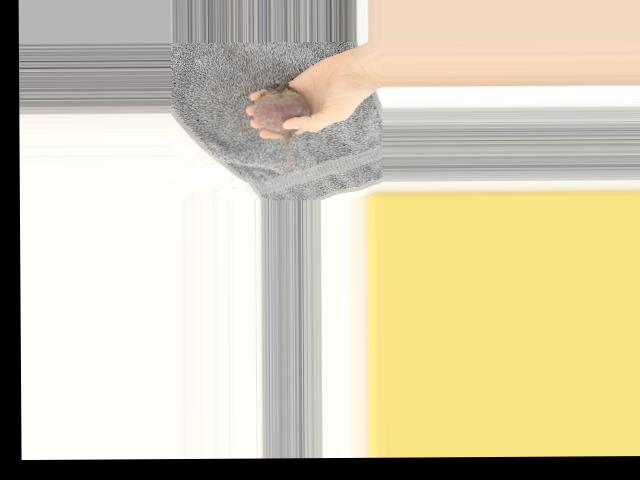beet: (252, 82, 311, 177)
